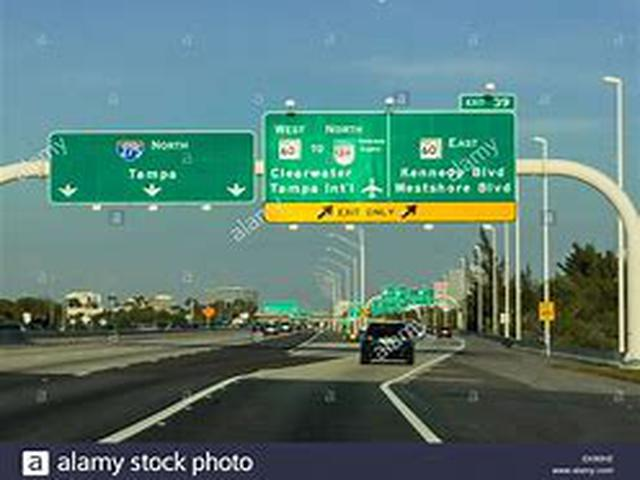autre: (266, 109, 518, 222), (51, 129, 256, 203)
